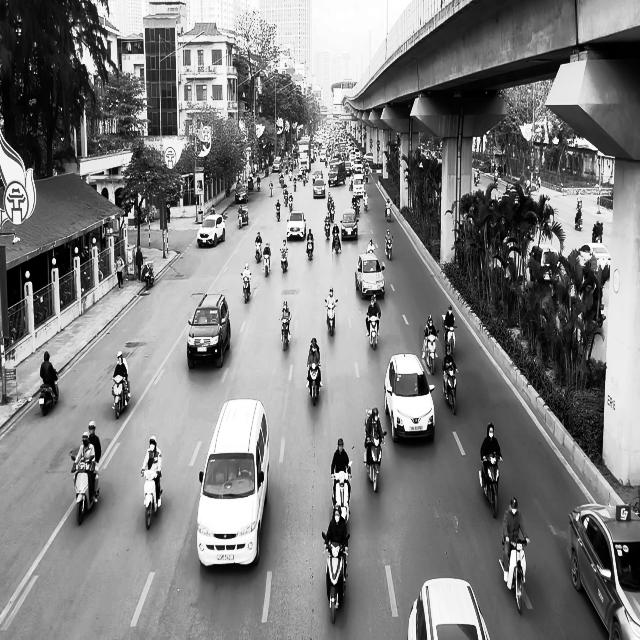car: (197, 398, 269, 568), (568, 502, 640, 640), (407, 578, 491, 640), (384, 352, 435, 442), (187, 292, 230, 369), (576, 242, 611, 283), (355, 253, 385, 299), (197, 213, 225, 247), (340, 208, 359, 240), (286, 210, 306, 240), (235, 184, 248, 203)
motorbike: (322, 531, 349, 623), (499, 533, 529, 615), (69, 447, 100, 525), (478, 451, 502, 518), (331, 460, 352, 524), (141, 469, 163, 529), (364, 432, 386, 492), (38, 373, 58, 416), (111, 374, 130, 419), (442, 362, 458, 414), (423, 330, 439, 375), (308, 362, 322, 406), (442, 317, 457, 357), (366, 311, 380, 350), (324, 299, 338, 336), (279, 316, 291, 351), (240, 272, 251, 304), (142, 261, 154, 289), (331, 230, 341, 253), (279, 248, 288, 273), (384, 235, 392, 260), (263, 252, 270, 277), (306, 238, 313, 260), (255, 240, 262, 262), (574, 216, 582, 230), (276, 202, 280, 221)
